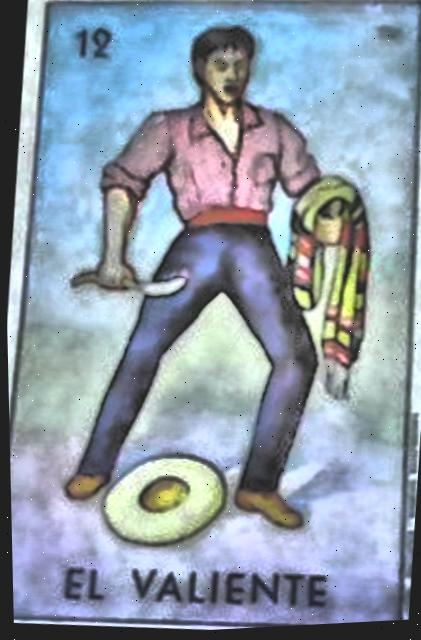El Valiente: (8, 6, 421, 629)
